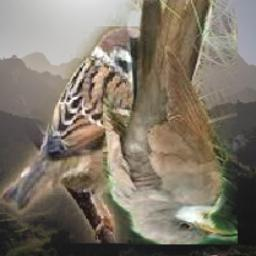Cuckoo: (103, 0, 238, 244)
Sparrow: (1, 26, 164, 243)
